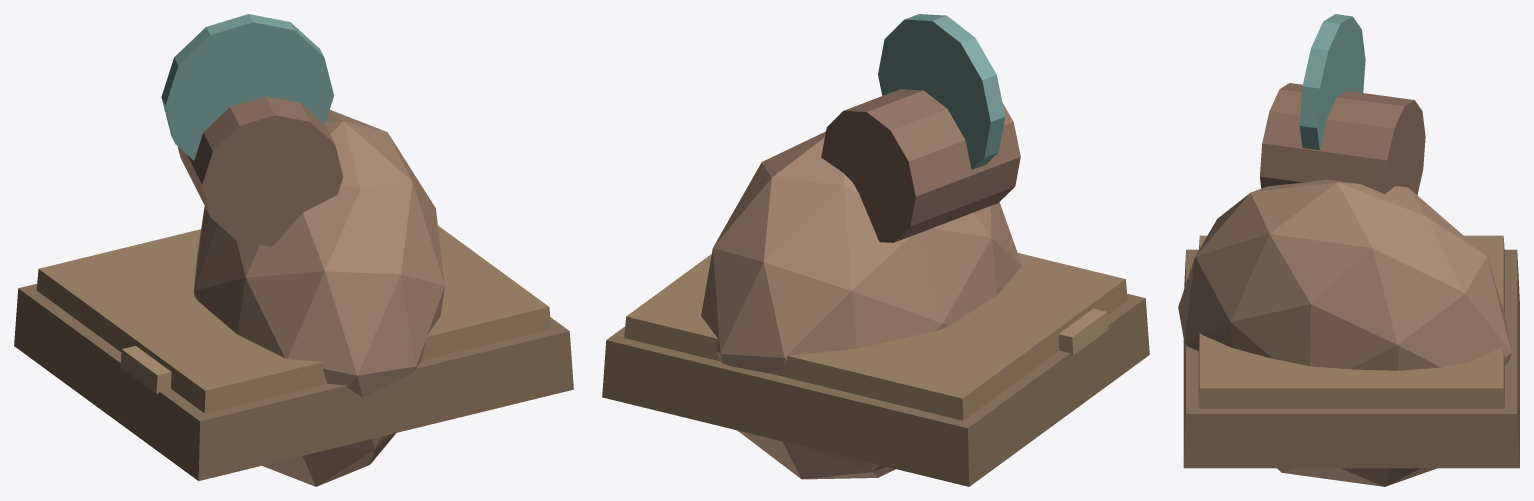
The model's file is station_aging_vase.glb.
3 renders of one model, left to right at view 1: azimuth 30°, elevation 25°; view 2: azimuth 150°, elevation 25°; view 3: azimuth 270°, elevation 25°, orthographic. The views are drawn at different scales.
Parts seen in each view (by area): view 1: part_3, part_0, part_1, part_4, part_5, part_2; view 2: part_3, part_0, part_1, part_4, part_5, part_2; view 3: part_3, part_0, part_1, part_4, part_5.
Boxes of the visible parts, x1=… form: part_3: x1=193, y1=110, x2=444, y2=486; part_0: x1=14, y1=283, x2=573, y2=480; part_1: x1=36, y1=225, x2=551, y2=413; part_4: x1=177, y1=96, x2=343, y2=246; part_5: x1=161, y1=14, x2=333, y2=160; part_2: x1=120, y1=346, x2=171, y2=393; part_3: x1=701, y1=131, x2=1021, y2=479; part_0: x1=602, y1=294, x2=1149, y2=486; part_1: x1=624, y1=253, x2=1127, y2=420; part_4: x1=821, y1=89, x2=1020, y2=242; part_5: x1=878, y1=14, x2=1005, y2=169; part_2: x1=1058, y1=308, x2=1108, y2=355; part_3: x1=1178, y1=179, x2=1511, y2=486; part_0: x1=1183, y1=249, x2=1519, y2=468; part_1: x1=1198, y1=235, x2=1504, y2=408; part_4: x1=1260, y1=83, x2=1425, y2=195; part_5: x1=1299, y1=14, x2=1365, y2=150.
Size of the model in its own units: 1.08 by 1.3 by 0.9349.
